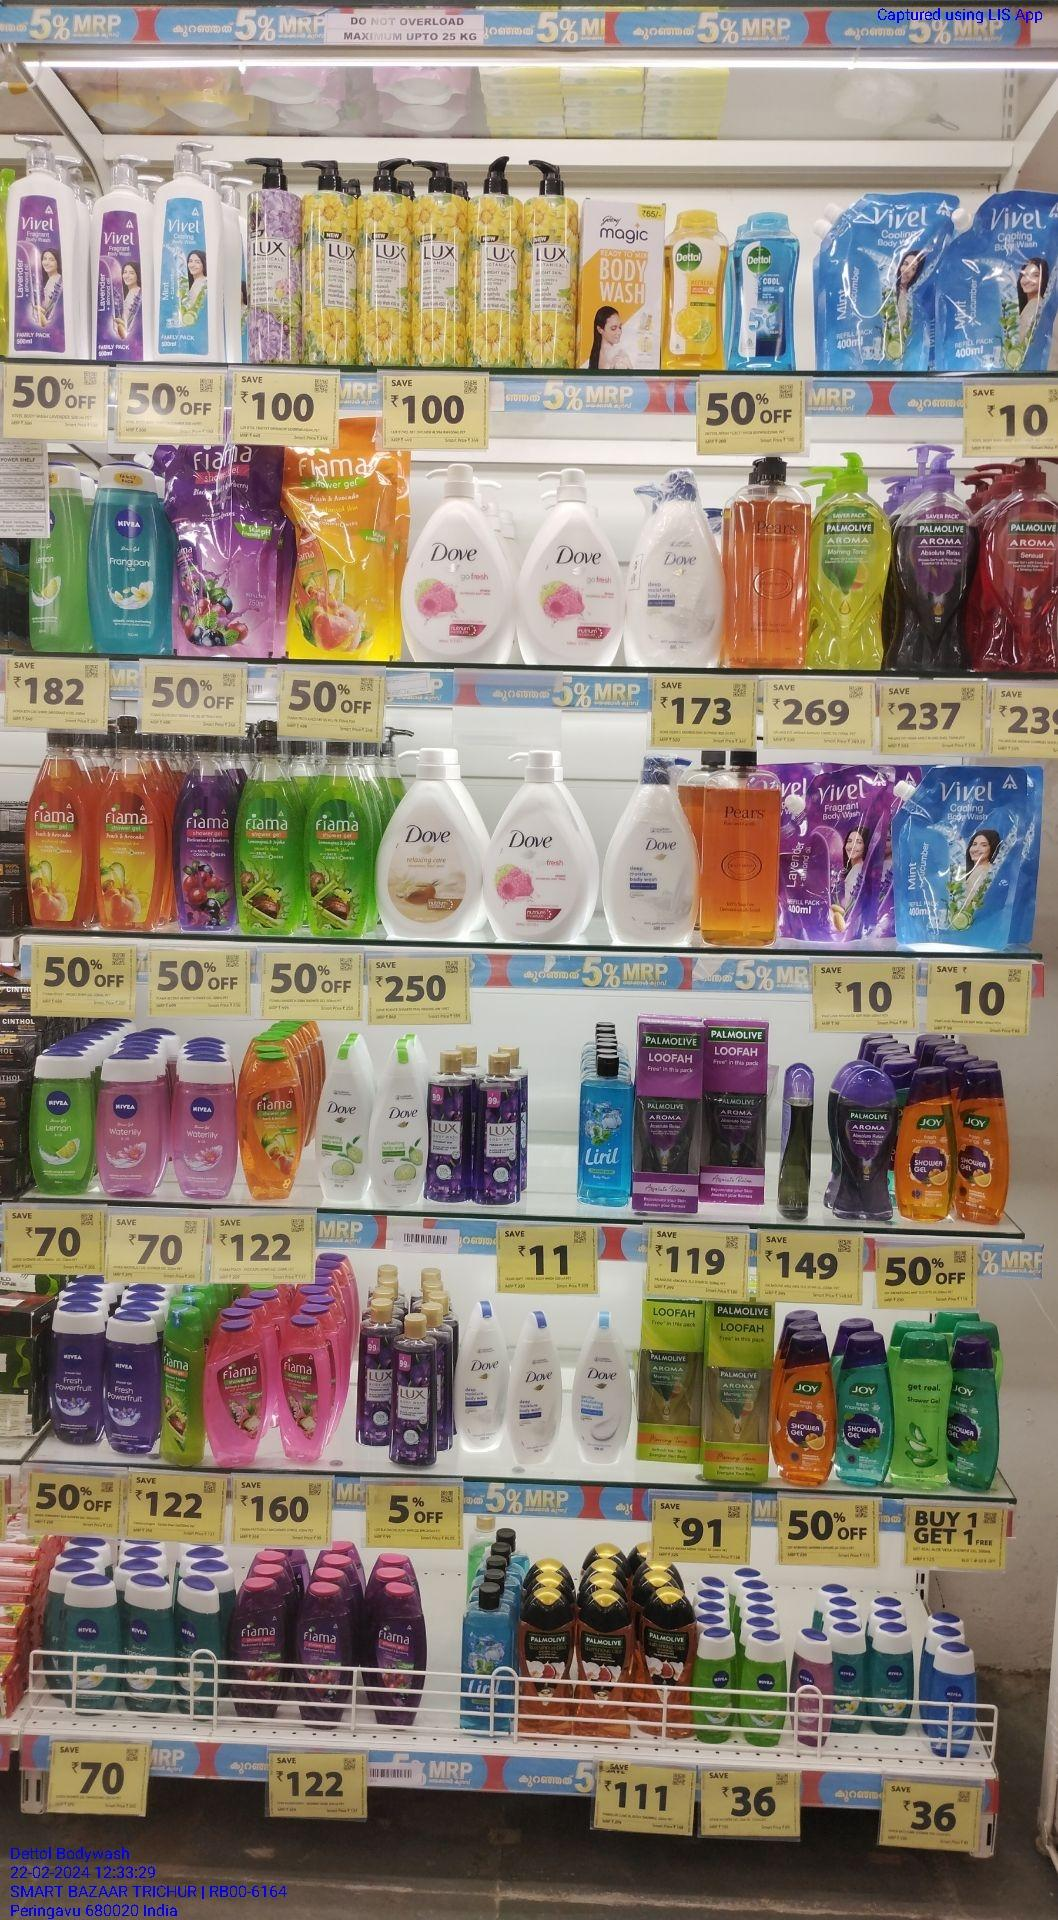Dettol_Bodywash_Cool: (730, 216, 799, 367)
Dettol_Bodywash_Refresh: (668, 207, 722, 373)
Dove_Deep_Moisture_Body_Wash_250ML: (509, 1306, 559, 1465), (457, 1308, 502, 1450)
Dove_Gentle_Exfoliating_Body_Wash_250ML: (571, 1301, 631, 1475)
Dove_Refreshing_Body_Wash_250ML: (315, 1045, 369, 1202), (375, 1046, 421, 1214)
Fiama_Shower_Gel_Patchouli_and_Macadamia_250ML: (202, 1318, 267, 1472), (279, 1317, 327, 1464)
Fiama_Shower_Gel_Peach_and_Avocado_250ML: (236, 1043, 301, 1201)
Joy_Shower_Gel_Mandarin_and_Lemongrass_250ML: (774, 1336, 831, 1489), (902, 1073, 954, 1223), (962, 1067, 1007, 1223)
Joy_Shower_Gel_Mint_and_Eucalyptus_250ML: (840, 1334, 887, 1497), (954, 1330, 998, 1485)
Liril_Cooling_Mint_Body_Wash_250ML: (579, 1045, 629, 1215), (466, 1593, 513, 1735)
Lux_Black_Orchid_Scent_and_Juniper_Oil_Body_Wash_245ML: (479, 1056, 517, 1210), (395, 1325, 435, 1468), (429, 1059, 469, 1200), (358, 1305, 391, 1446)
Nivea_Shower_Gel_Frangipani_and_Oil_250ML: (86, 464, 171, 654), (65, 1574, 122, 1706), (176, 1577, 220, 1729), (126, 1570, 169, 1708)
Nivea_Shower_Gel_Fresh_Powerfruit_250ML: (42, 1306, 102, 1441), (102, 1318, 155, 1451)
Nivea_Shower_Gel_Lemon_and_Oil_250ML: (30, 1062, 89, 1185)
Nivea_Shower_Gel_Waterlily_and_Oil_250ML: (172, 1046, 231, 1209), (100, 1062, 160, 1192)
Palmolive_Aroma_Relax_250ML: (838, 1063, 890, 1221)
Palmolive_Luminous_Oils_With_White_Orchid_Shower_Gel_250ML: (576, 1593, 635, 1749), (521, 1592, 571, 1738), (640, 1600, 688, 1742)
